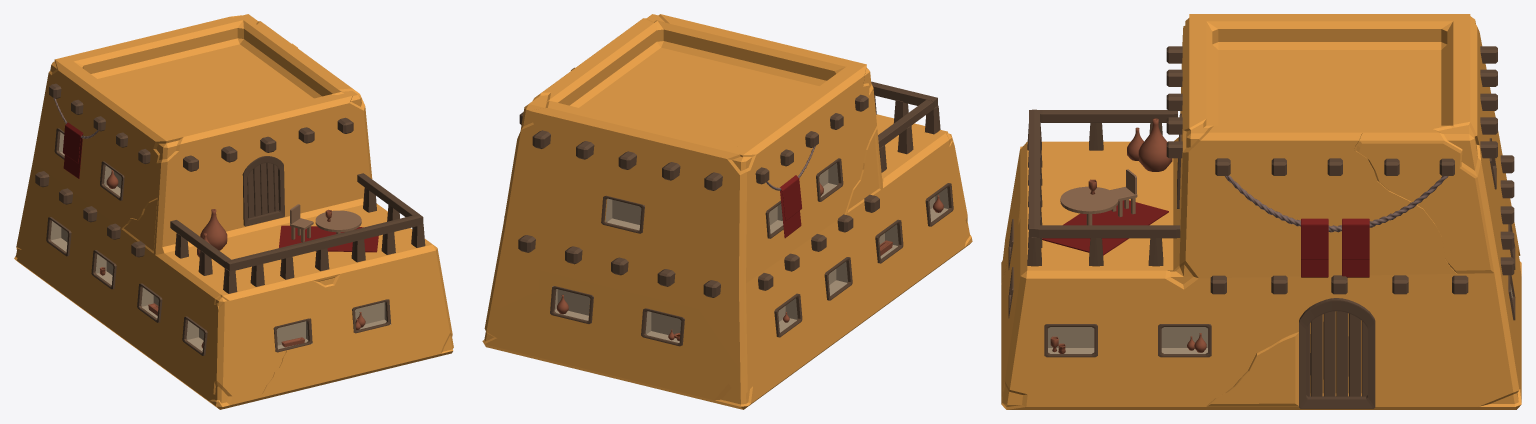
Rendered from HOUSE01.fbx.
The picture shows the model from 3 angles, left to right: view 1: azimuth 30°, elevation 25°; view 2: azimuth 150°, elevation 25°; view 3: azimuth 270°, elevation 25°; orthographic projection. The views are drawn at different scales.
Parts seen in each view (by area): view 1: ev1; view 2: ev1; view 3: ev1.
Boxes of the visible parts, x1,y1,x2,y2 form: ev1: [14, 14, 453, 409]; ev1: [482, 14, 972, 409]; ev1: [1001, 14, 1521, 409].
Size of the model in its own units: 1.2 by 0.9991 by 1.78.
